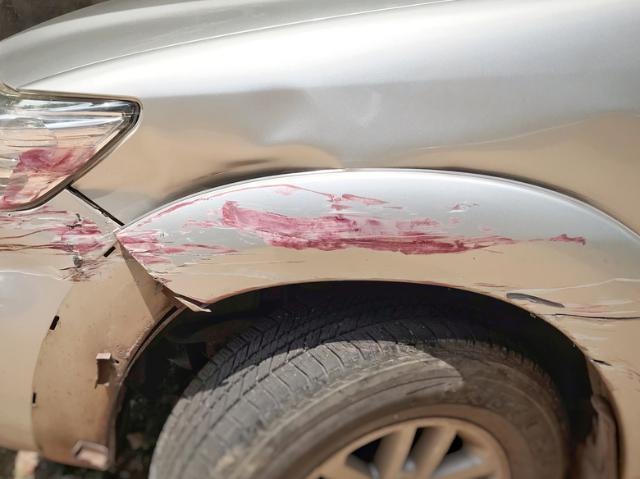Bumper: (2, 202, 134, 451)
Fender: (101, 85, 640, 363)
Light: (7, 102, 91, 198)
